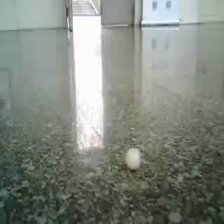w: (124, 146, 145, 170)
